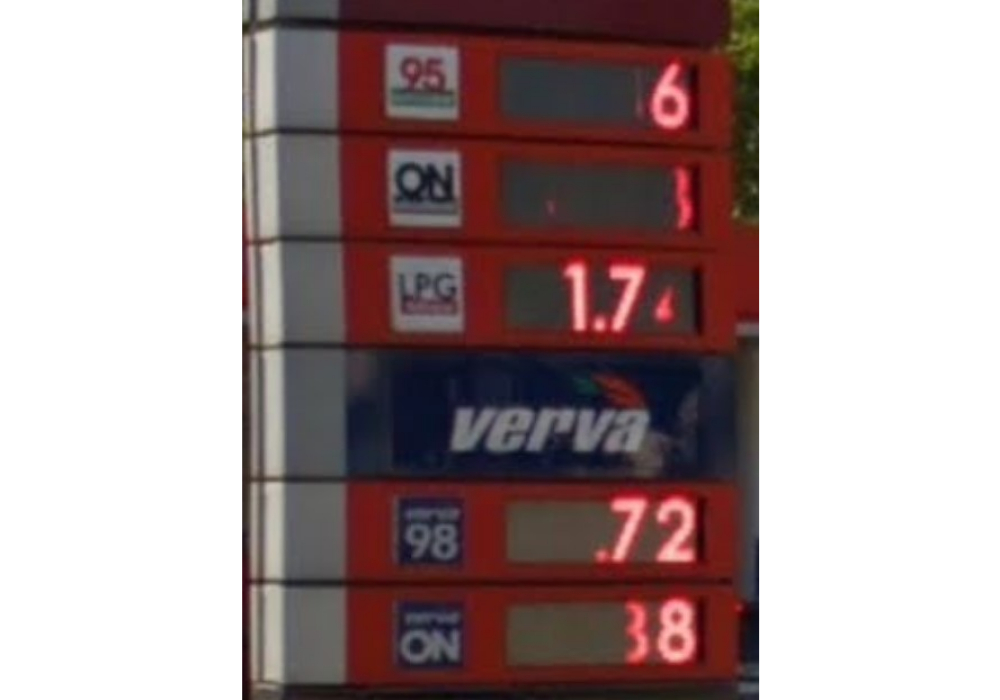LPG: (388, 252, 467, 333)
ON: (383, 147, 463, 232), (392, 594, 467, 674)
PB95: (380, 41, 463, 123)
PB98: (393, 491, 467, 574)
